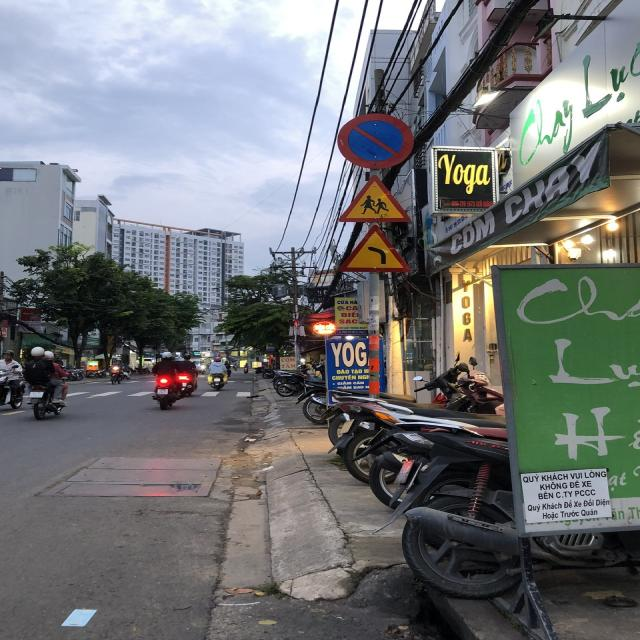Bien bao cam do xe: (325, 104, 425, 175)
Bien bao cho ngoat nguy hiem: (324, 223, 418, 281)
Bien bao tre em: (324, 173, 423, 226)
